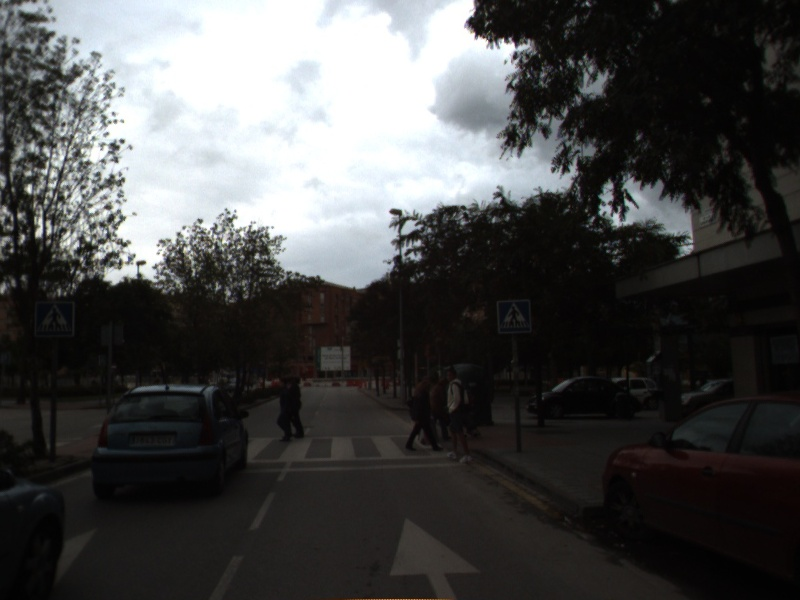STRAIGHT: (386, 514, 486, 600)
